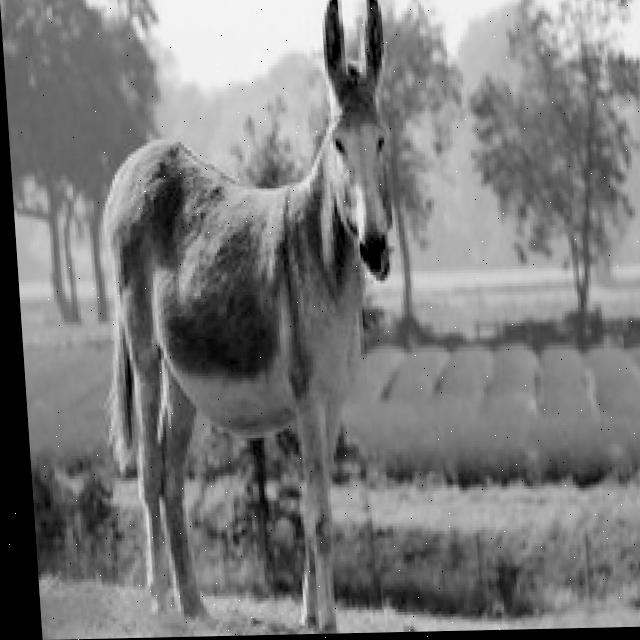Donkey: (77, 0, 425, 635)
